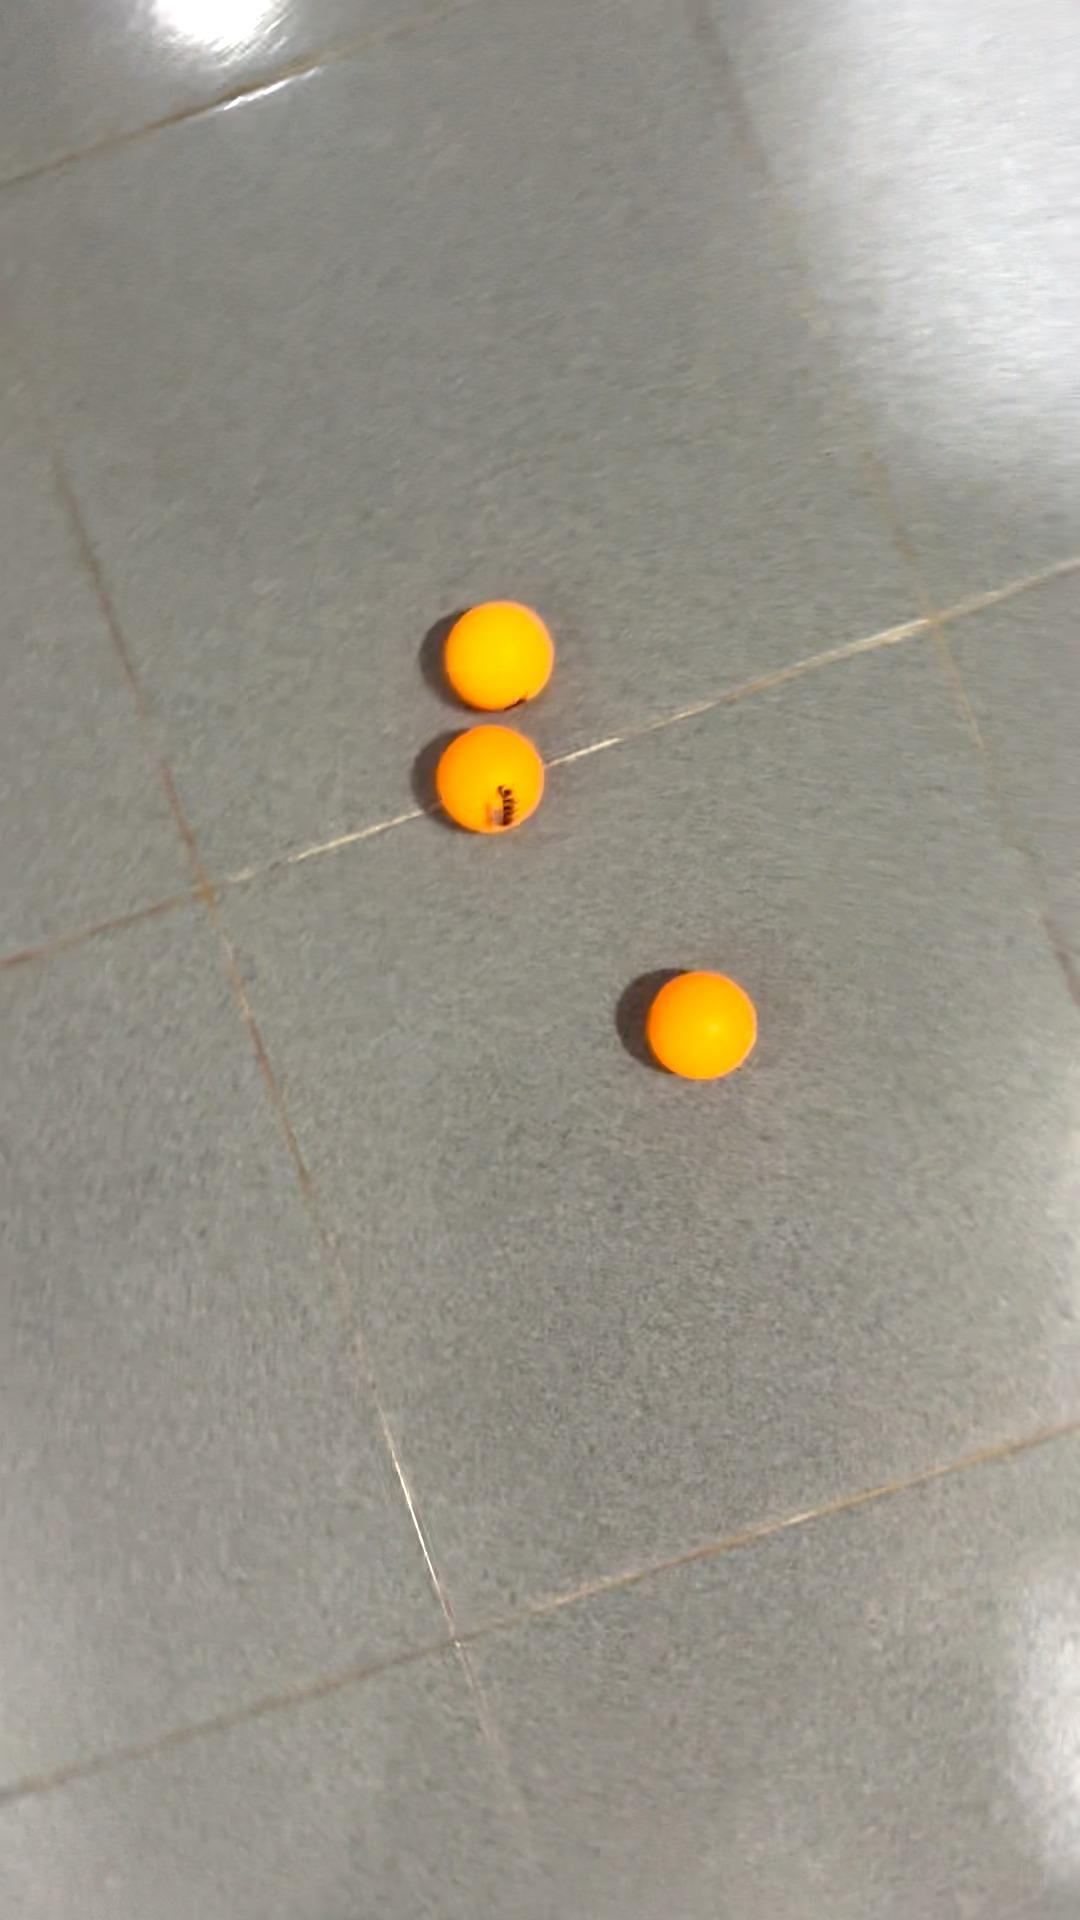oball: (634, 961, 777, 1087), (421, 721, 558, 840), (434, 591, 559, 713)
